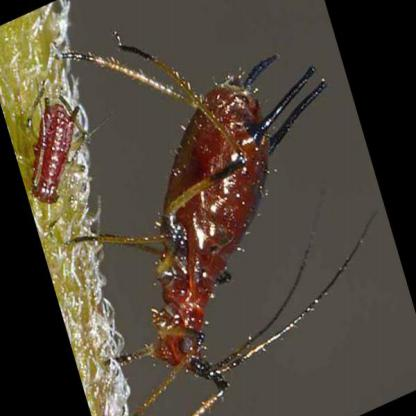uroleucon compositae: (107, 60, 328, 387)
